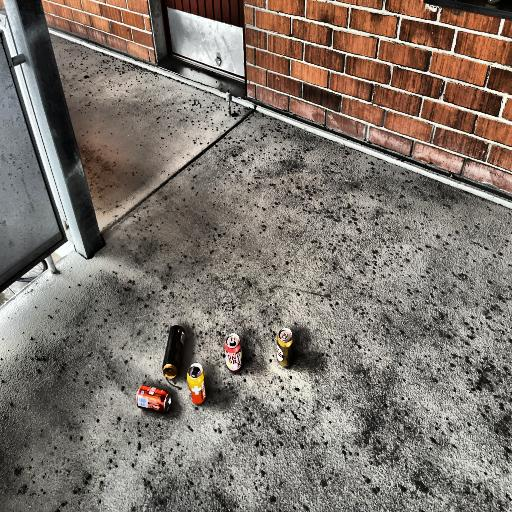A_LeCoq: (274, 318, 306, 381)
coop_larger: (126, 380, 177, 422)
karhu: (157, 315, 188, 383)
koff: (218, 328, 252, 382)
